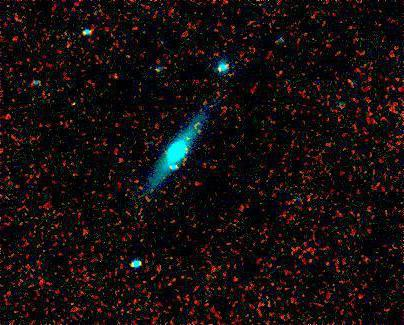star: (156, 157, 186, 187)
